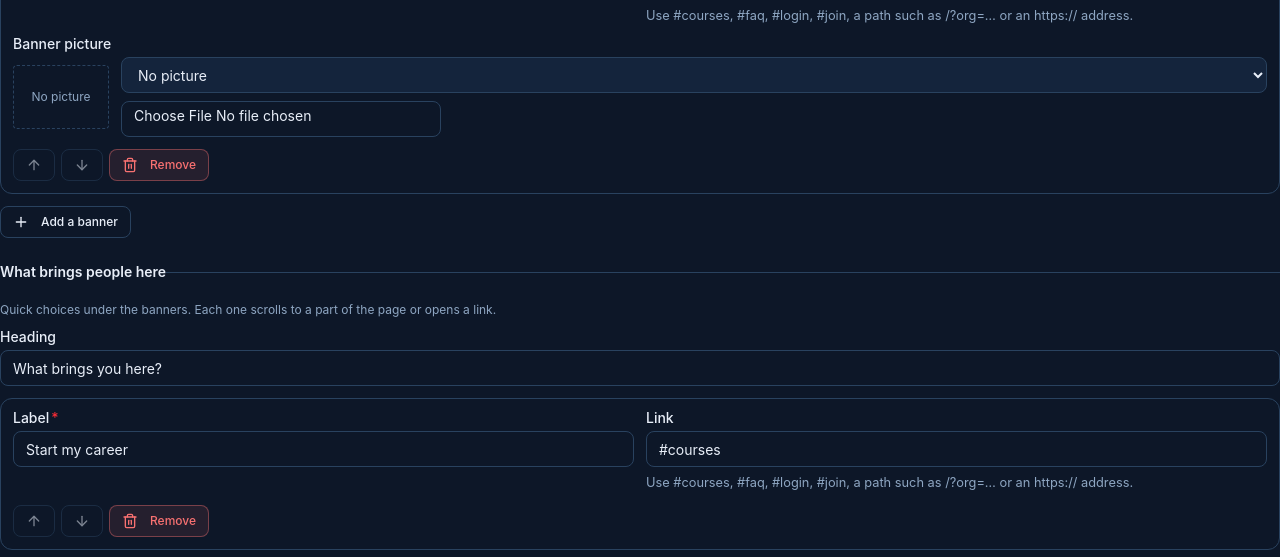
Test: LandingContentPage › adds, edits, reorders and removes banners
(page scrolled)
Click the button "Add a banner" at [66, 222], box [0,206,131,238]
(page scrolled)
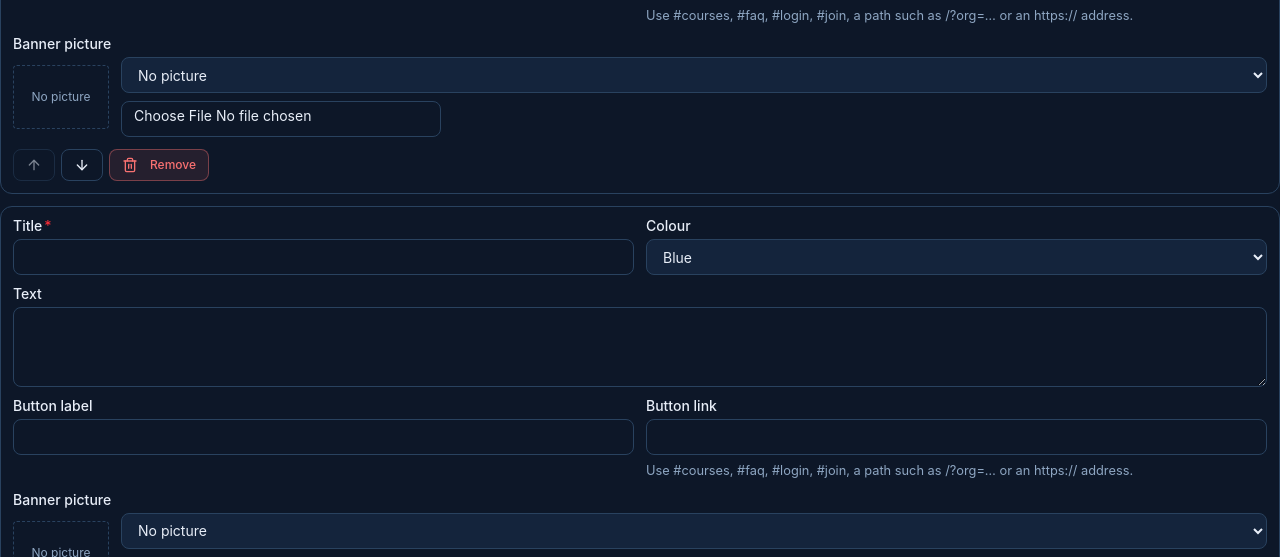
Type "Second banner" into the field labelled "Title" at [324, 257], box [13,239,634,275]
(page scrolled)
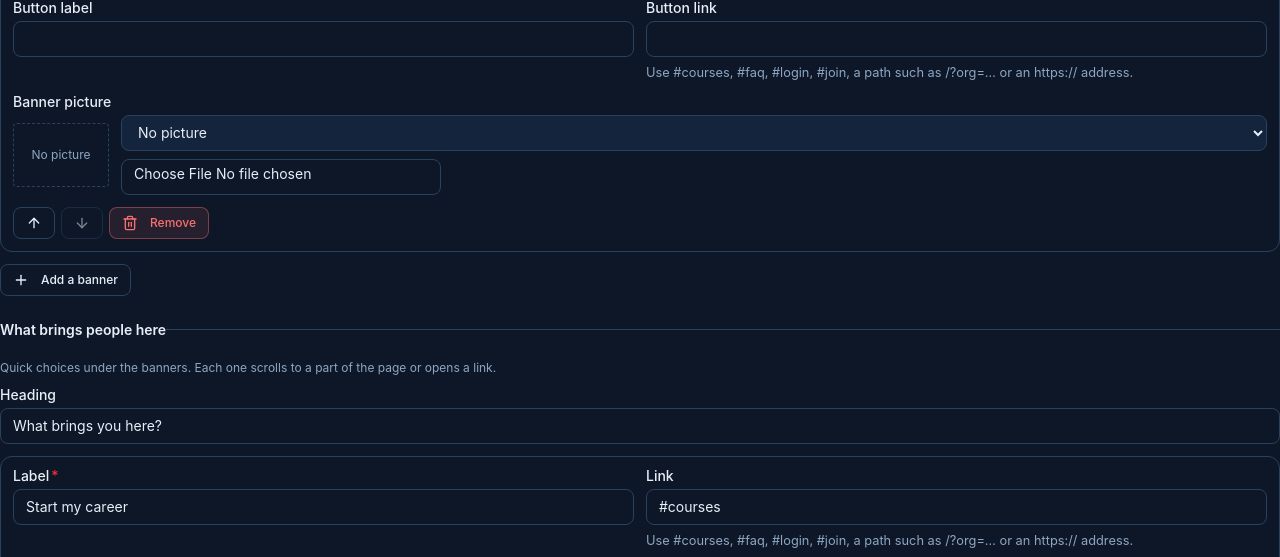
Click the button named "Move banner 2 up" at [34, 223], box [13,207,55,239]
(page scrolled)
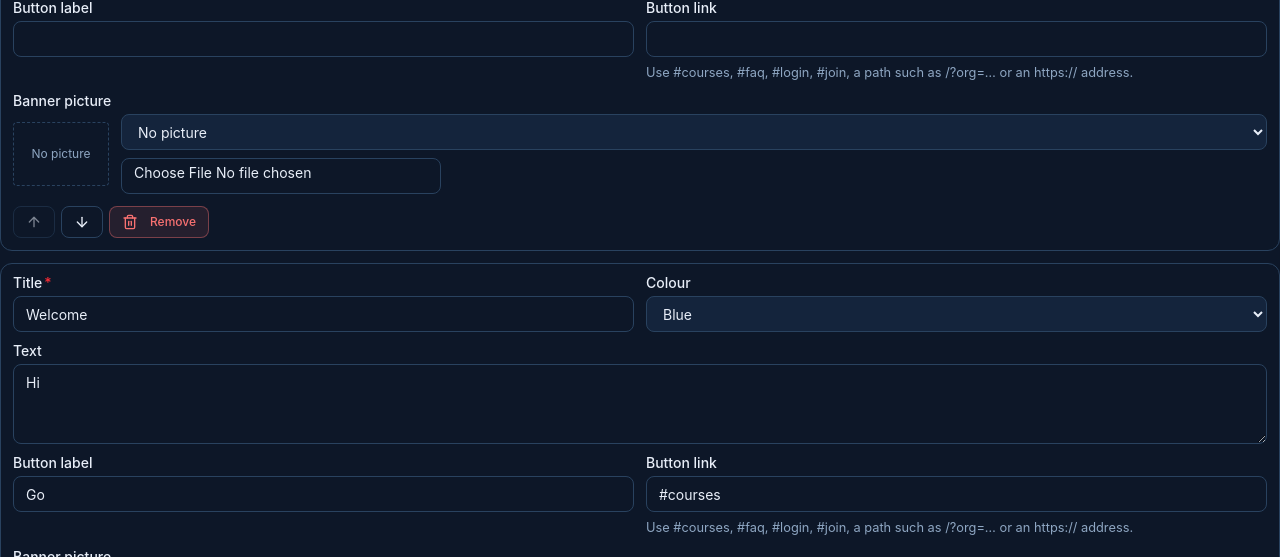
Click the button with aria-label "Remove banner 1" at [159, 222], box [109,206,209,238]
(page scrolled)
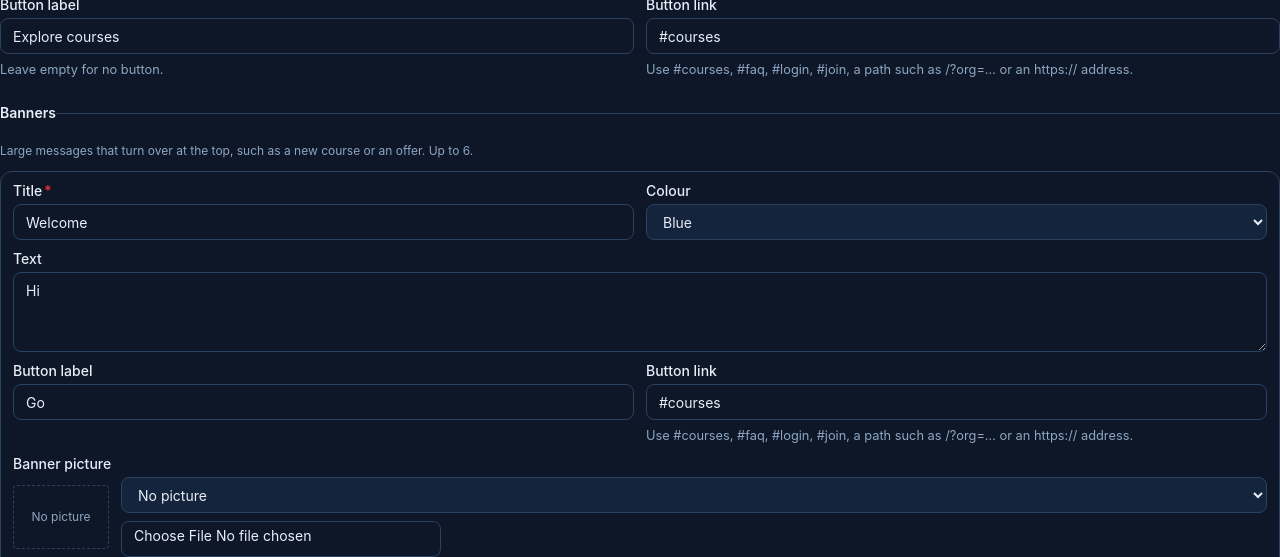
Expected: the field labelled "Title" holds "Welcome", [13,204,634,240]
